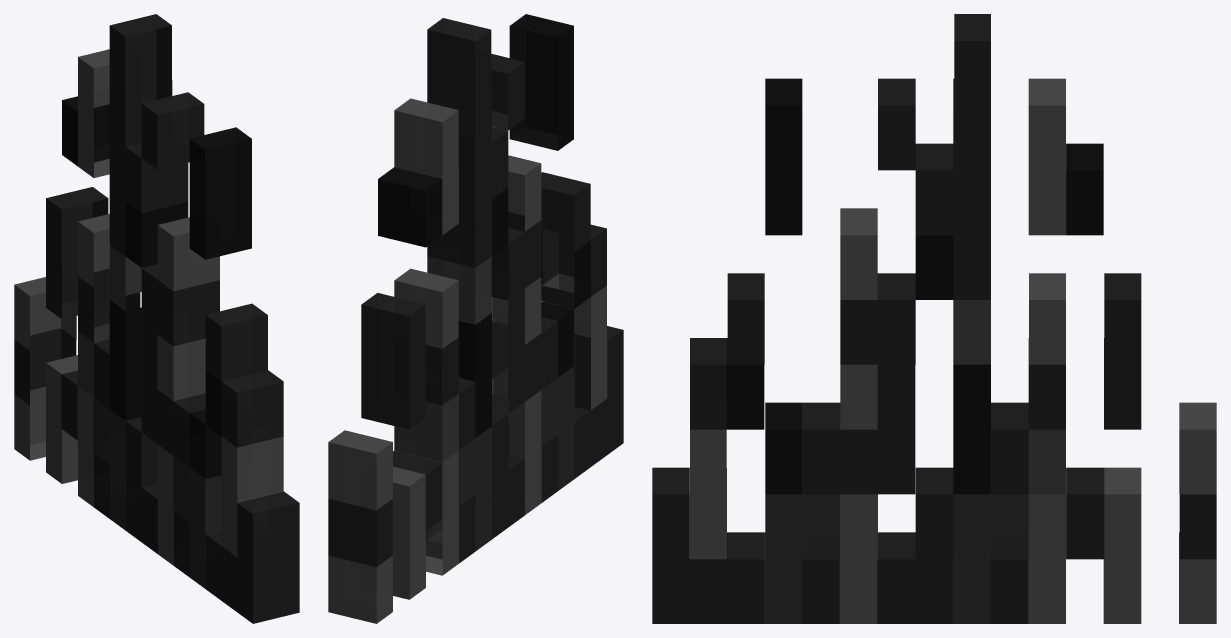
The model's file is wall_scorchmark_3.gltf.
3 views of the same model, side by side, from view 1: azimuth 30°, elevation 25°; view 2: azimuth 150°, elevation 25°; view 3: azimuth 270°, elevation 25° (orthographic). The views are drawn at different scales.
Visible parts, largest first — view 1: wall_scorchmark_3; view 2: wall_scorchmark_3; view 3: wall_scorchmark_3.
Part boxes in pixels (x1=…): wall_scorchmark_3: x1=14, y1=14, x2=299, y2=623; wall_scorchmark_3: x1=328, y1=14, x2=623, y2=623; wall_scorchmark_3: x1=652, y1=14, x2=1216, y2=623.
Bounding box in the file's own units: 0.0985 × 0.997 × 0.874.
1 material, 1 textured.
